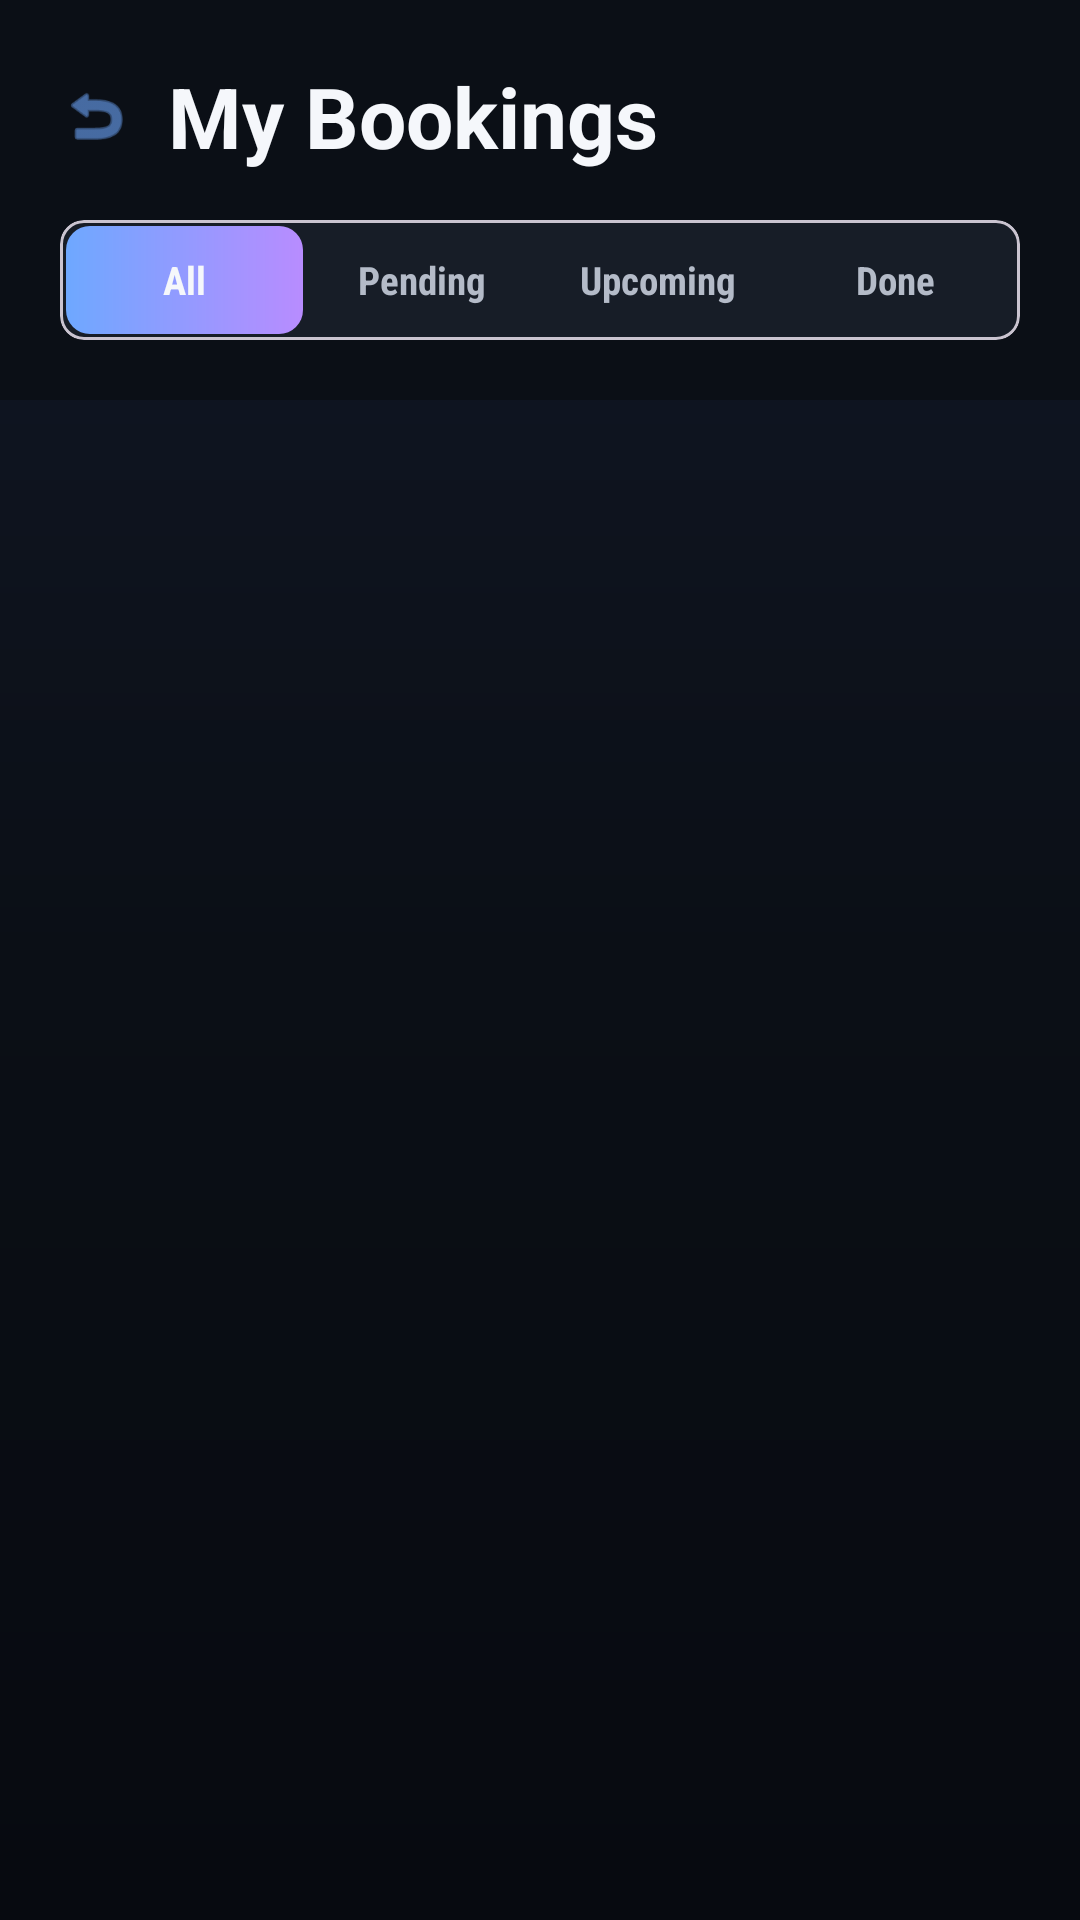

Locate icon controls on the screen. Image size 1080×1920, boxes as (x1, y1, x2, y2).
revert: (71, 93, 123, 140)
